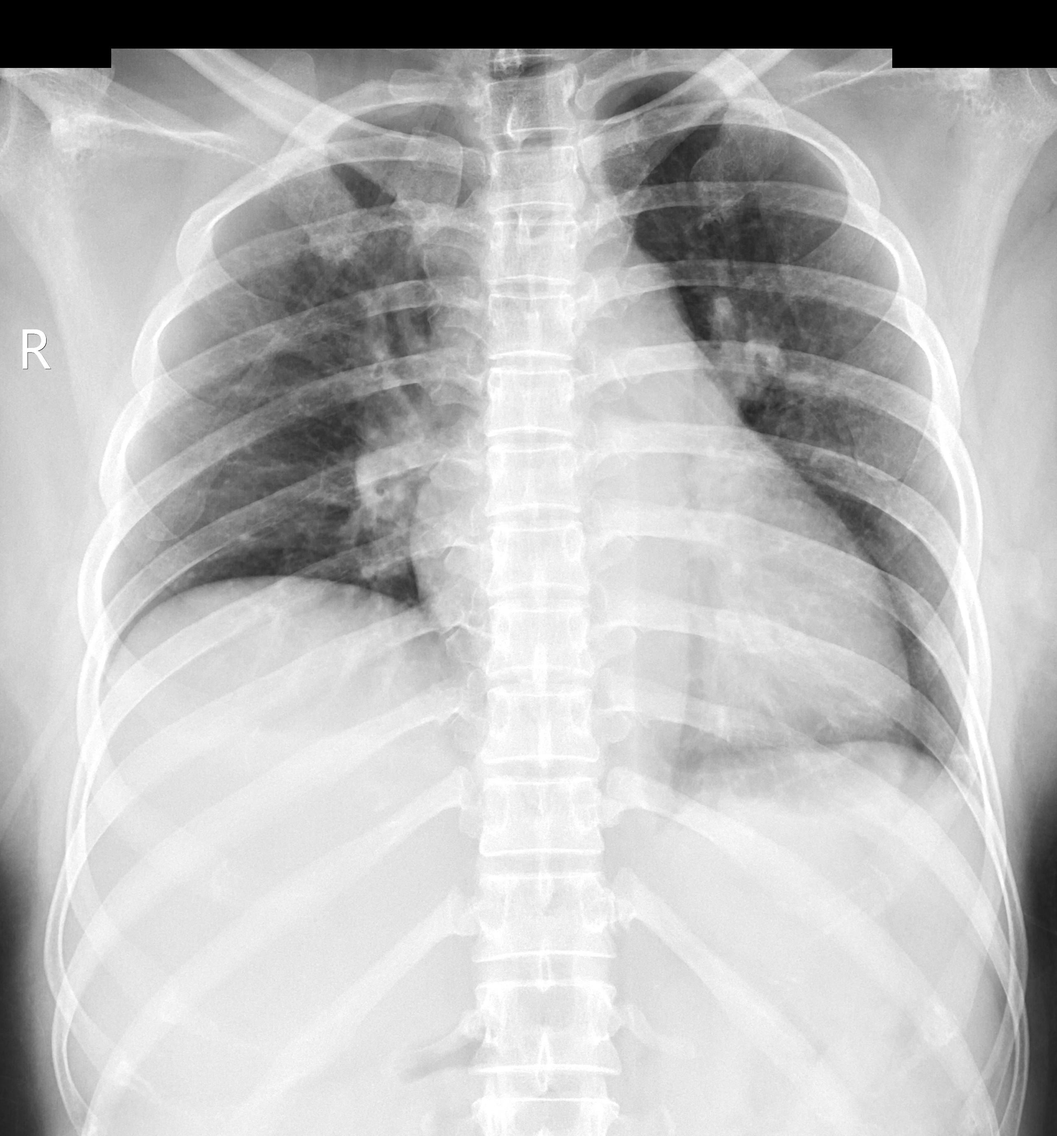Cardiomegaly: (403, 493, 924, 742)
